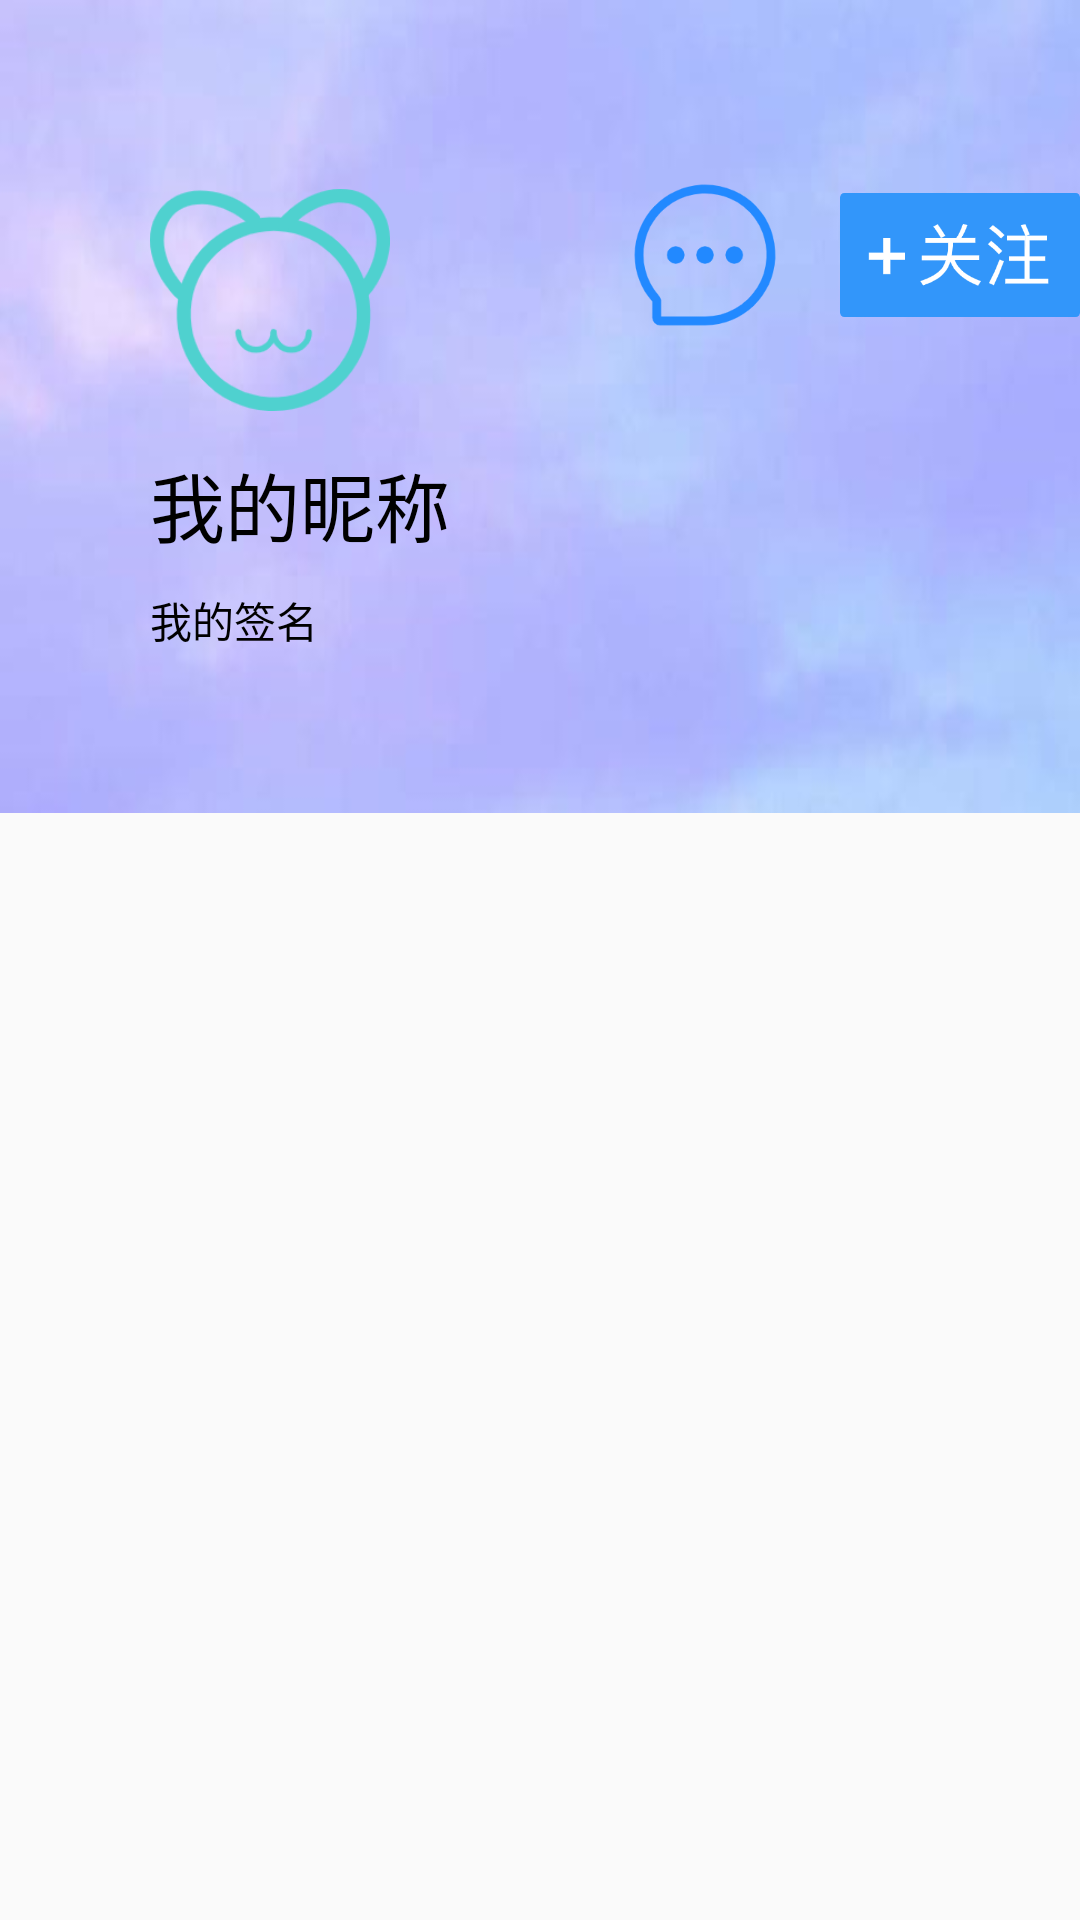

Screen size 1080px×1920px. Icon name, then its center in pixels as point (x, y):
sixin: point (705, 255)
